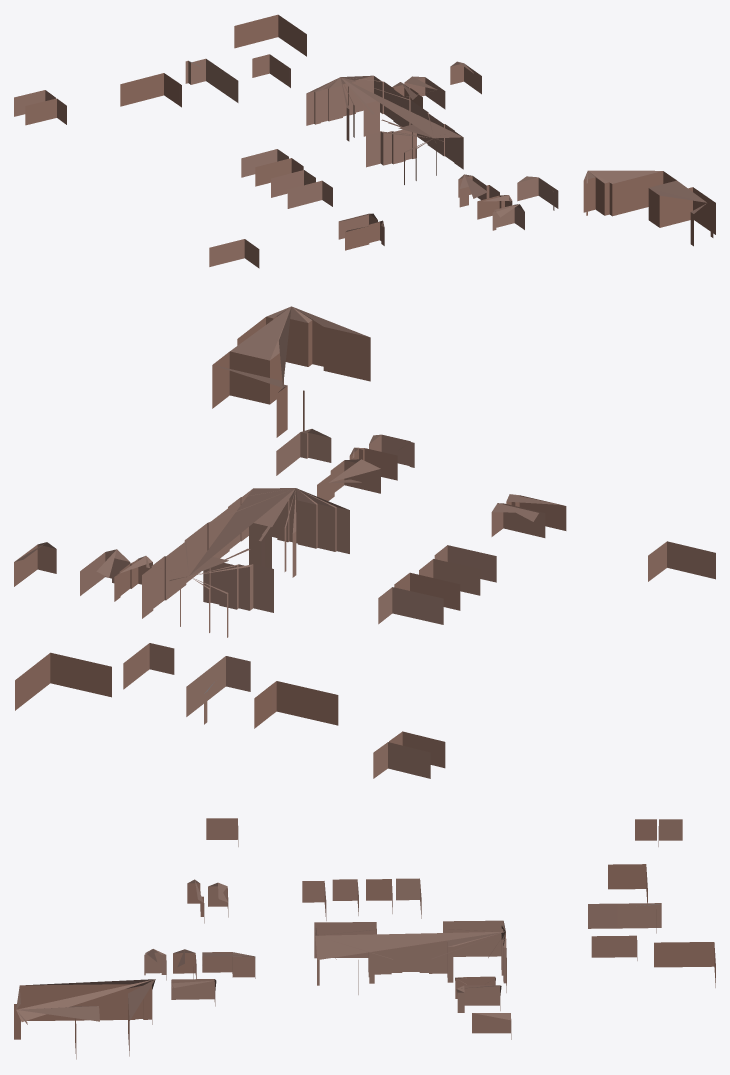
File: c_1634_17824_buildings_residential.glb
3 views of the same model, one above another, from view 1: azimuth 30°, elevation 25°; view 2: azimuth 150°, elevation 25°; view 3: azimuth 270°, elevation 25° (orthographic). The views are drawn at different scales.
Parts seen in each view (by area): view 1: geometry_0; view 2: geometry_0; view 3: geometry_0.
Boxes of the visible parts, x1,y1,x2,y2 form: geometry_0: (14,14,715,268); geometry_0: (14,306,715,778); geometry_0: (14,818,715,1059).
Size of the model in its own units: 210 by 19.83 by 281.
